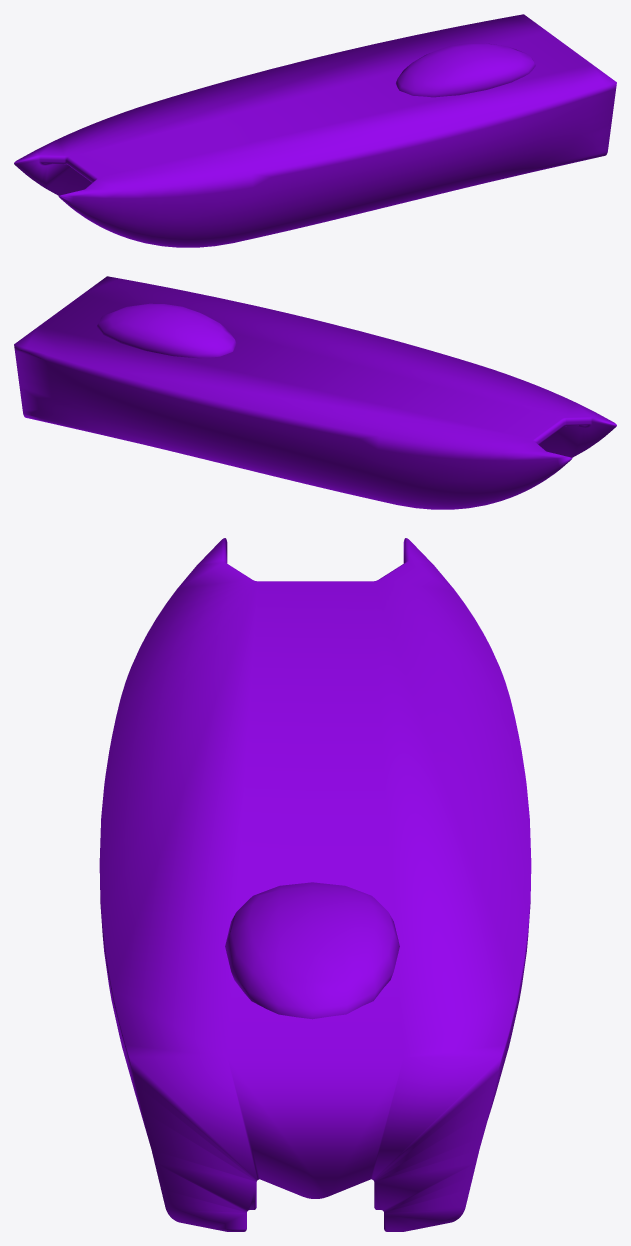
Rendered from Hull.dae.
The picture shows the model from 3 angles, top to bottom: view 1: azimuth 30°, elevation 25°; view 2: azimuth 150°, elevation 25°; view 3: azimuth 270°, elevation 25°; orthographic projection. The views are drawn at different scales.
Visible parts, largest first — view 1: Hull3; view 2: Hull3; view 3: Hull3.
Boxes of the visible parts, x1,y1,x2,y2 form: Hull3: [14, 14, 616, 247]; Hull3: [14, 276, 616, 509]; Hull3: [99, 538, 531, 1231].
Bounding box in the file's own units: 1.6 × 0.56 × 0.313.
